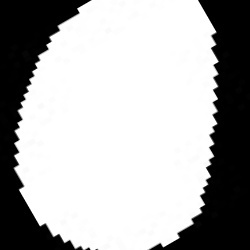spot: (15, 1, 219, 250)
